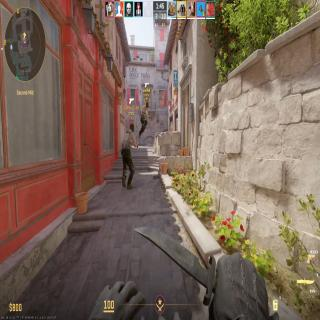T-Body: (122, 123, 137, 188), (139, 102, 150, 137)
T-Head: (130, 123, 134, 132), (146, 102, 149, 108)
